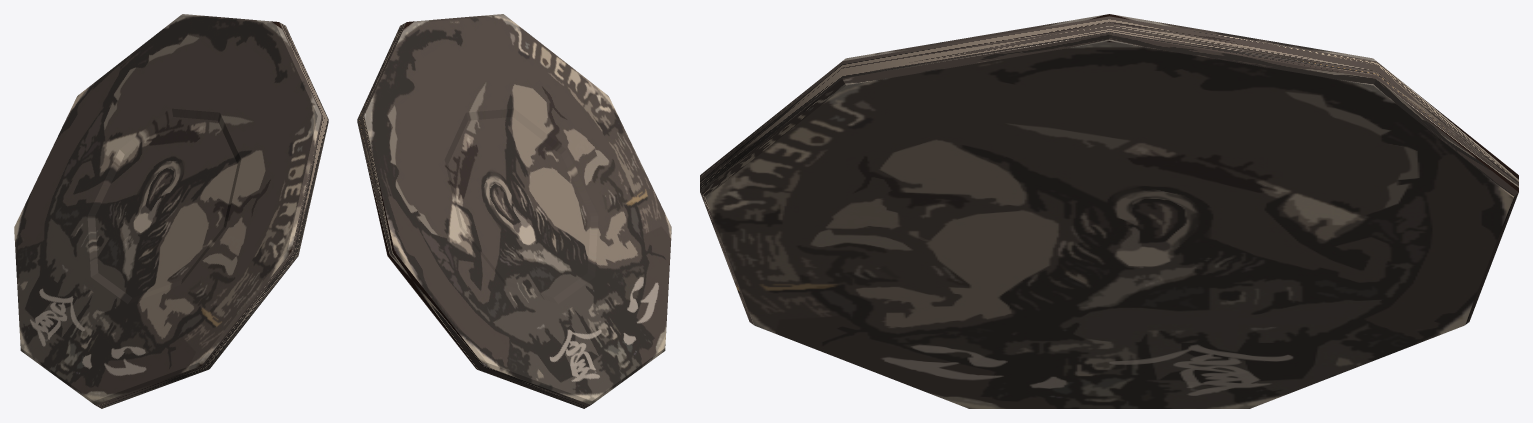
The model's file is 贪心金币.FBX.
3 renders of one model, left to right at view 1: azimuth 30°, elevation 25°; view 2: azimuth 150°, elevation 25°; view 3: azimuth 270°, elevation 25°, orthographic. The views are drawn at different scales.
Visible parts, largest first — view 1: Cylinder001; view 2: Cylinder001; view 3: Cylinder001.
Boxes of the visible parts, bbox=[...] form: Cylinder001: bbox=[14, 14, 328, 408]; Cylinder001: bbox=[357, 14, 671, 408]; Cylinder001: bbox=[700, 14, 1518, 408].
Bounding box in the file's own units: 14.26 × 18.3 × 22.98.
